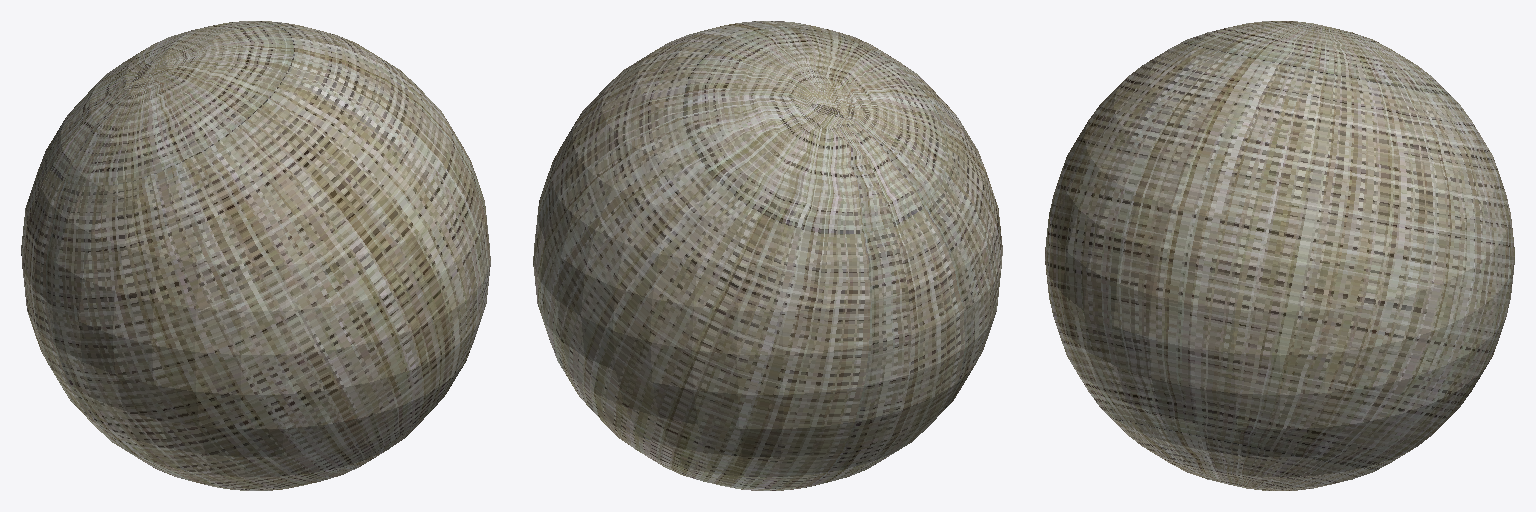
3 renders of one model, left to right at view 1: azimuth 30°, elevation 25°; view 2: azimuth 150°, elevation 25°; view 3: azimuth 270°, elevation 25°, orthographic.
Visible parts, largest first — view 1: Sphere; view 2: Sphere; view 3: Sphere.
Boxes of the visible parts, x1,y1,x2,y2 form: Sphere: [21, 21, 490, 490]; Sphere: [533, 21, 1002, 490]; Sphere: [1045, 21, 1514, 490].
Size of the model in its own units: 2 by 2 by 2.
1 materials, 1 textured.